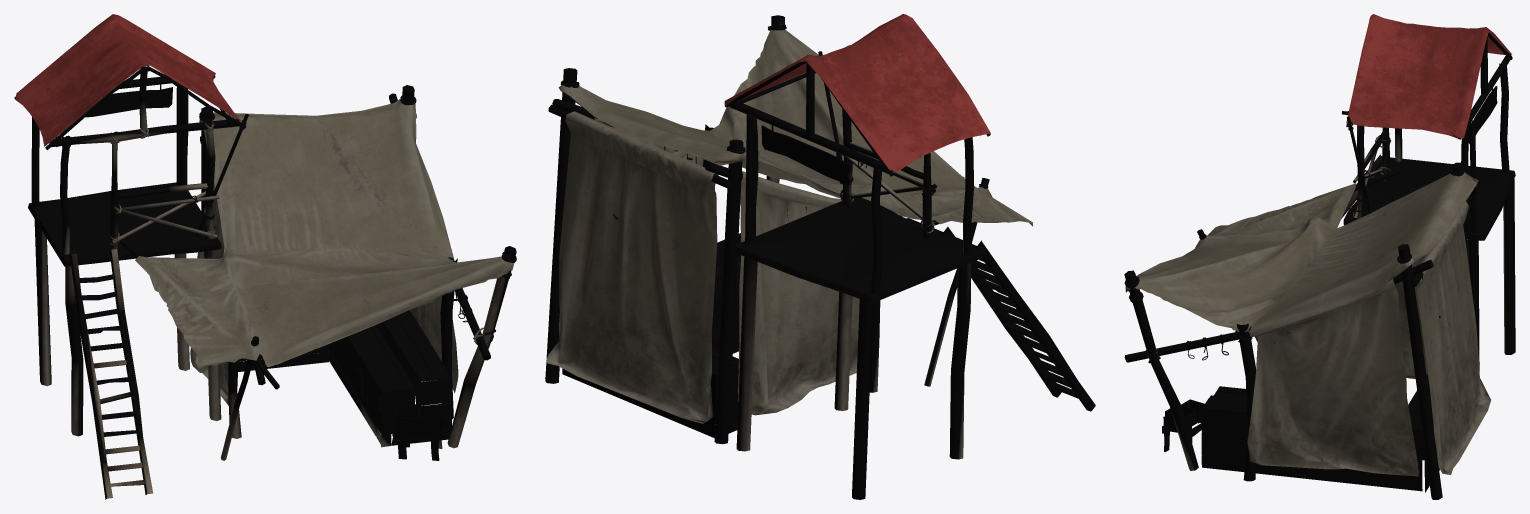
Rendered from Shop_01.glb.
3 renders of one model, left to right at view 1: azimuth 30°, elevation 25°; view 2: azimuth 150°, elevation 25°; view 3: azimuth 270°, elevation 25°, orthographic. The views are drawn at different scales.
Visible parts, largest first — view 1: SM_Shop_01; view 2: SM_Shop_01; view 3: SM_Shop_01.
Part boxes in pixels (<box>): SM_Shop_01: <box>14,14,516,499</box>; SM_Shop_01: <box>545,14,1095,499</box>; SM_Shop_01: <box>1124,14,1515,499</box>.
Size of the model in its own units: 7.2 by 6.44 by 6.43.
Materials: 3 (3 with a texture image).
